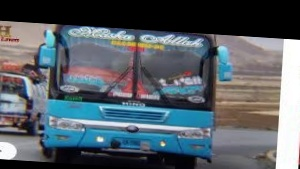bus: (31, 24, 233, 169)
